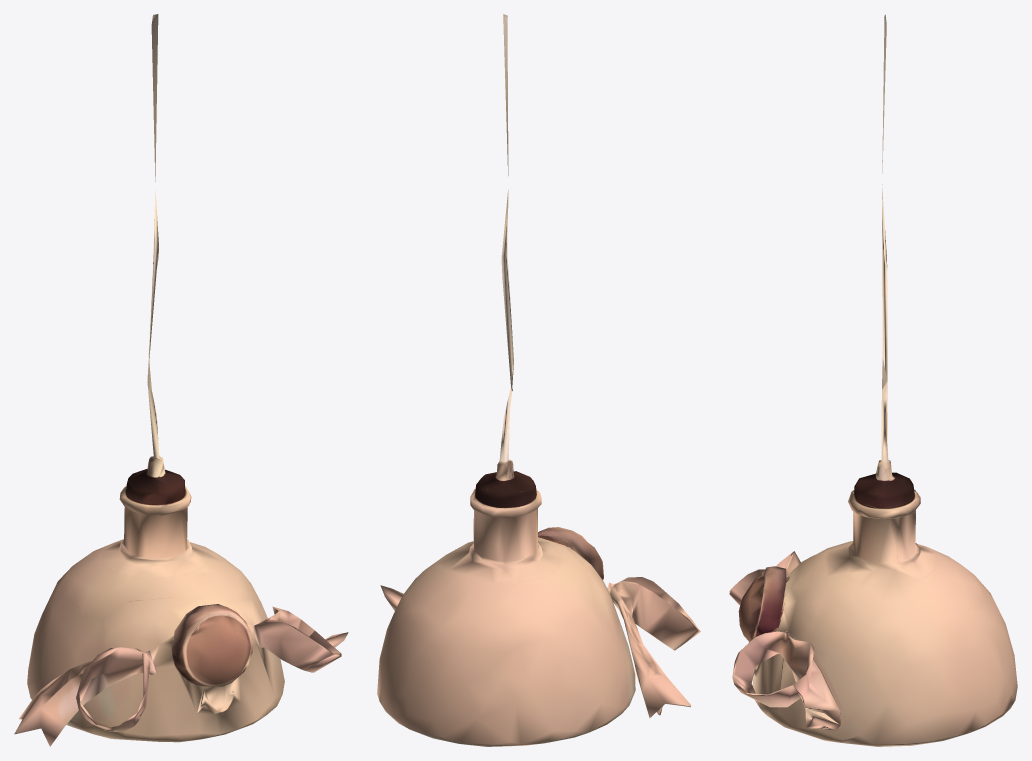
File: regr_ceiling_light.fbx
3 views of the same model, side by side, from view 1: azimuth 30°, elevation 25°; view 2: azimuth 150°, elevation 25°; view 3: azimuth 270°, elevation 25° (orthographic).
Visible parts, largest first — view 1: Mesh1.0; view 2: Mesh1.0; view 3: Mesh1.0.
Part boxes in pixels (box(x1,y1,x2,y2)): Mesh1.0: box(14, 14, 348, 746); Mesh1.0: box(377, 14, 700, 746); Mesh1.0: box(729, 14, 1017, 746).
Size of the model in its own units: 93.57 by 190 by 72.2.
1 material, 1 textured.
